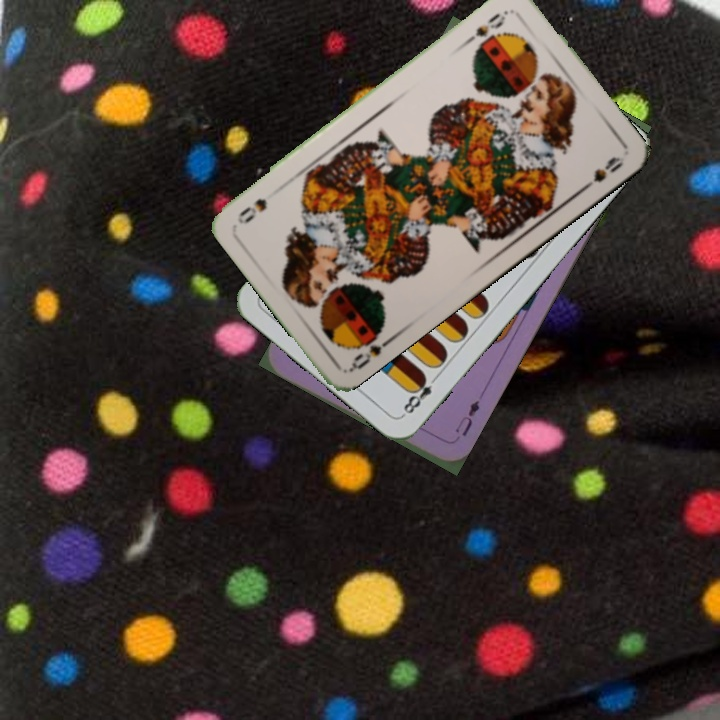E8: (398, 370, 442, 419)
EU: (451, 396, 483, 439)
SO: (346, 322, 397, 374), (461, 6, 511, 49)
